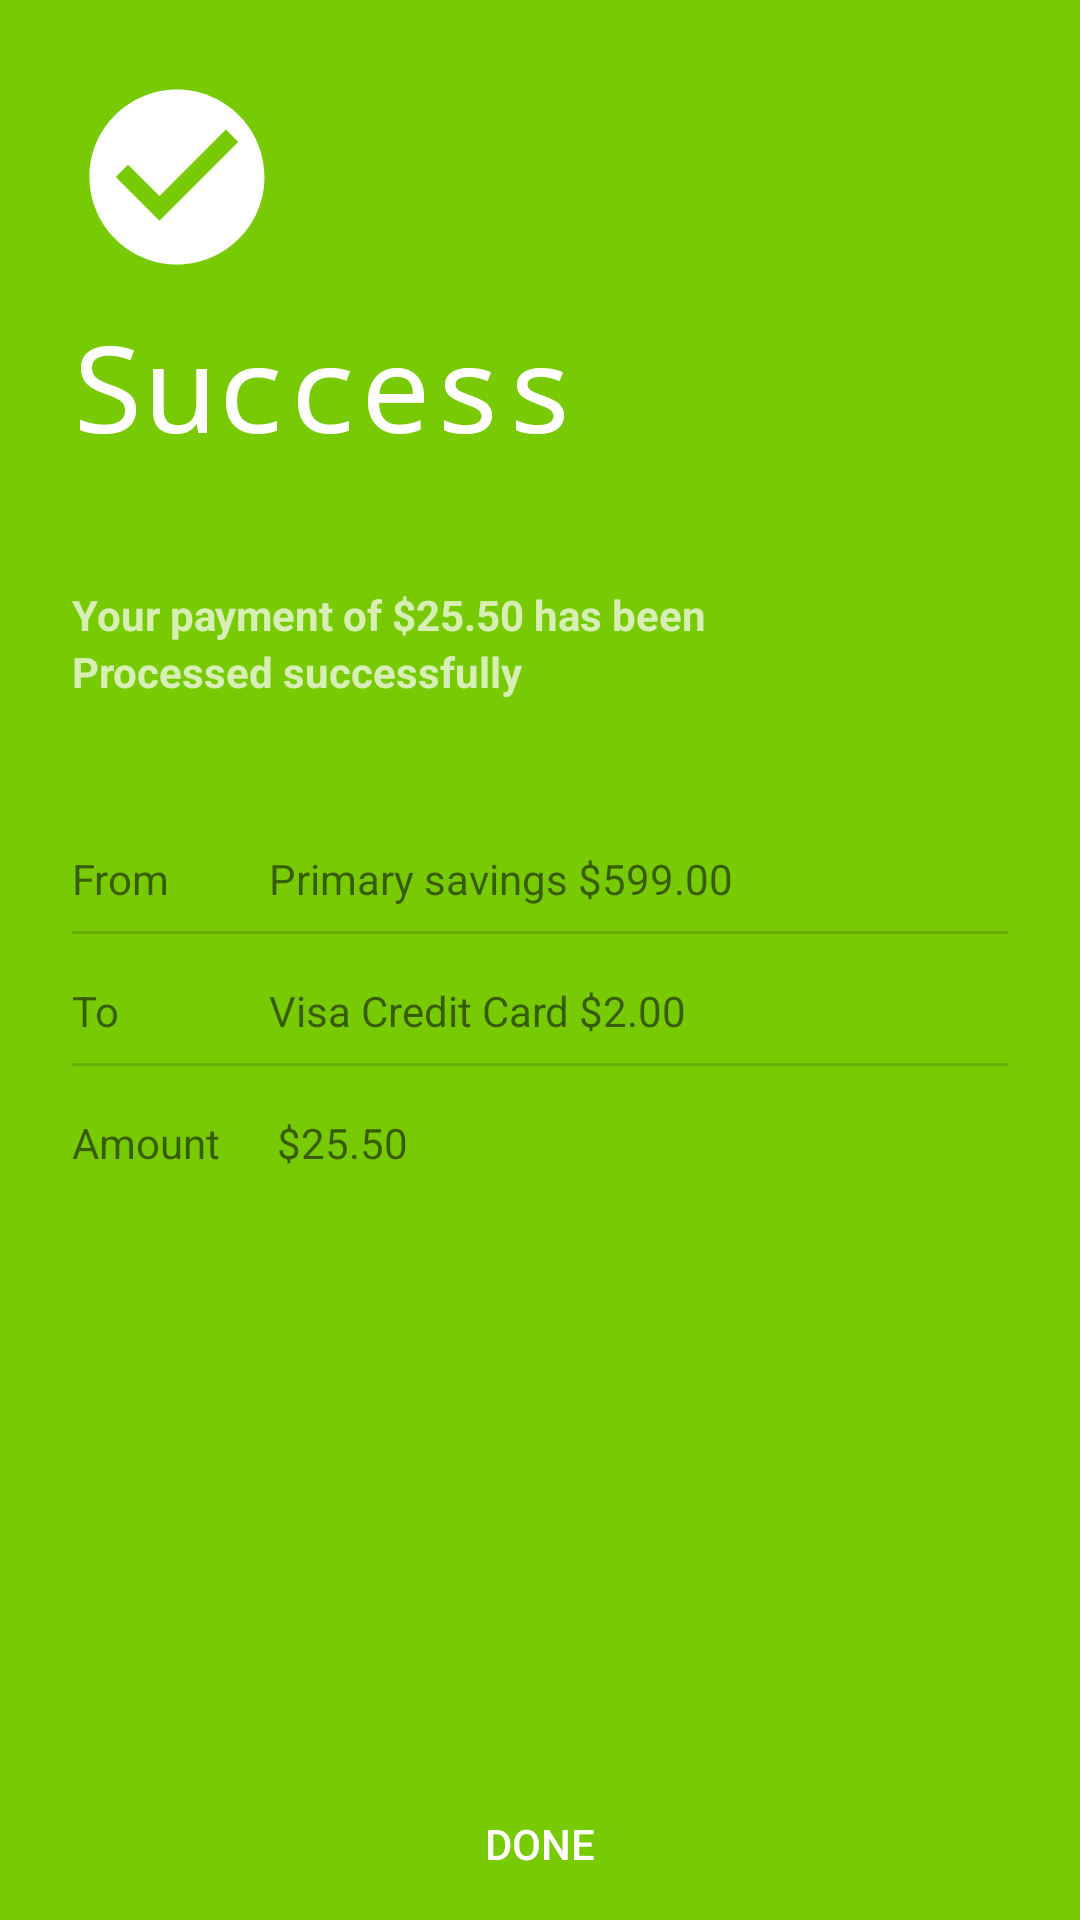

Where icons sit on this 1080*1920 app screen, as box=[x1, y1, x2, y2]:
check circle: box=[89, 89, 265, 265]
